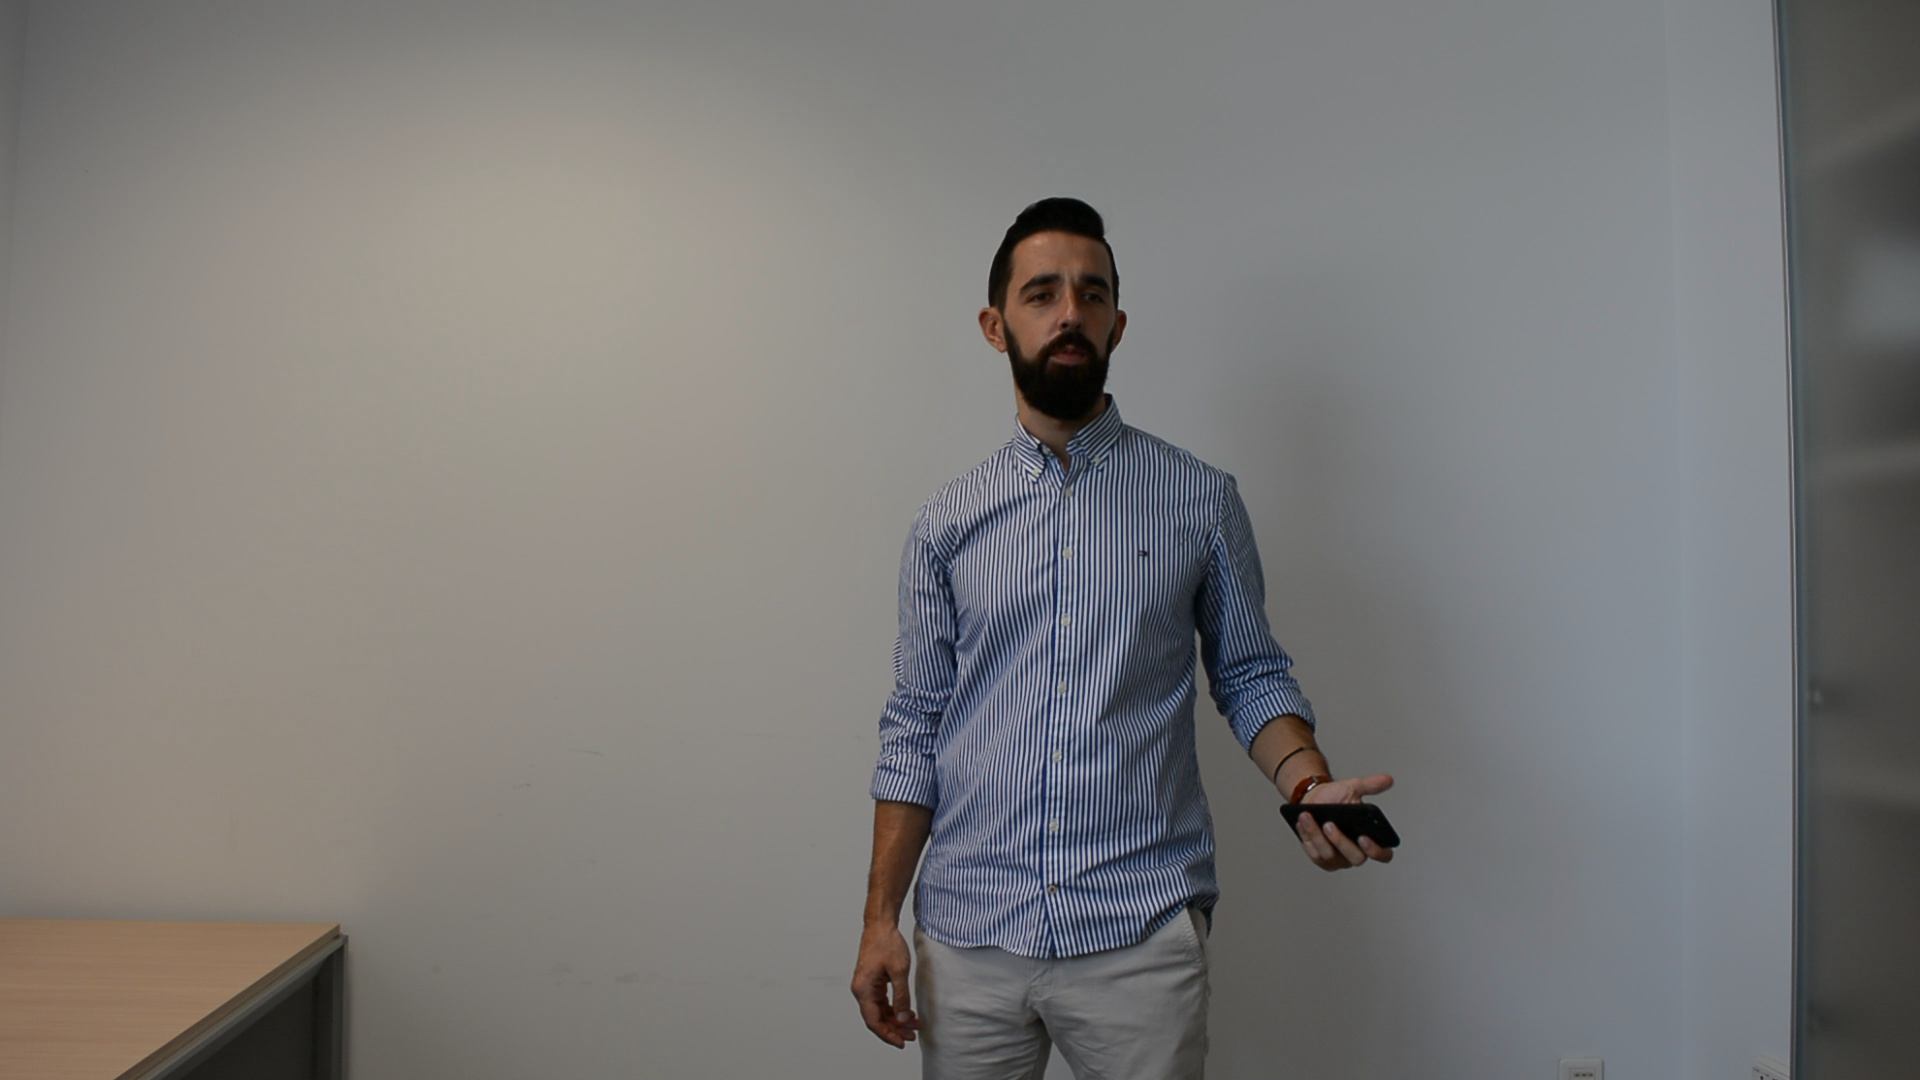smartphone: (1276, 800, 1403, 851)
